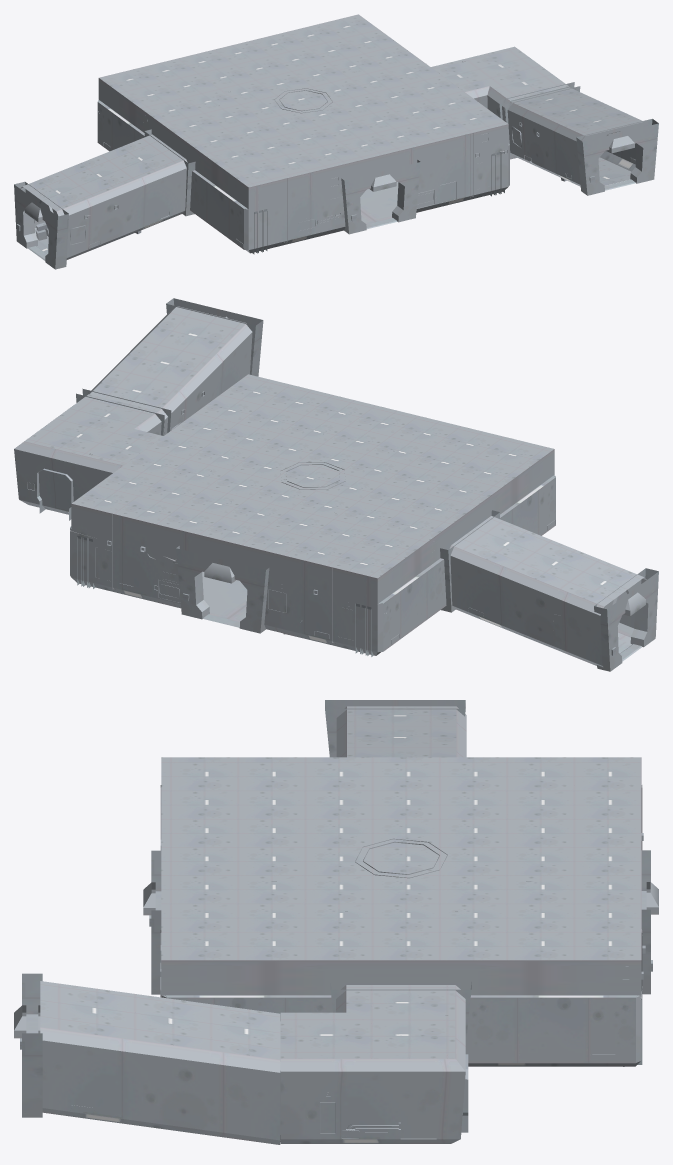
Rendered from Combined_Mesh_root_scene__12_ac3e1c64__ZombiesII_laboratory_02_d_7436f9f5_c1f257.obj.
3 views of the same model, one above another, from view 1: azimuth 30°, elevation 25°; view 2: azimuth 150°, elevation 25°; view 3: azimuth 270°, elevation 25° (orthographic). The views are drawn at different scales.
Size of the model in its own units: 78.61 by 13.91 by 53.73.
Materials: 273 (273 with a texture image).
